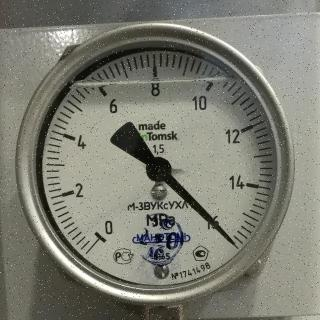gauge: (4, 18, 300, 318), (85, 221, 115, 251), (144, 155, 172, 182), (208, 217, 232, 241), (226, 235, 239, 249)
